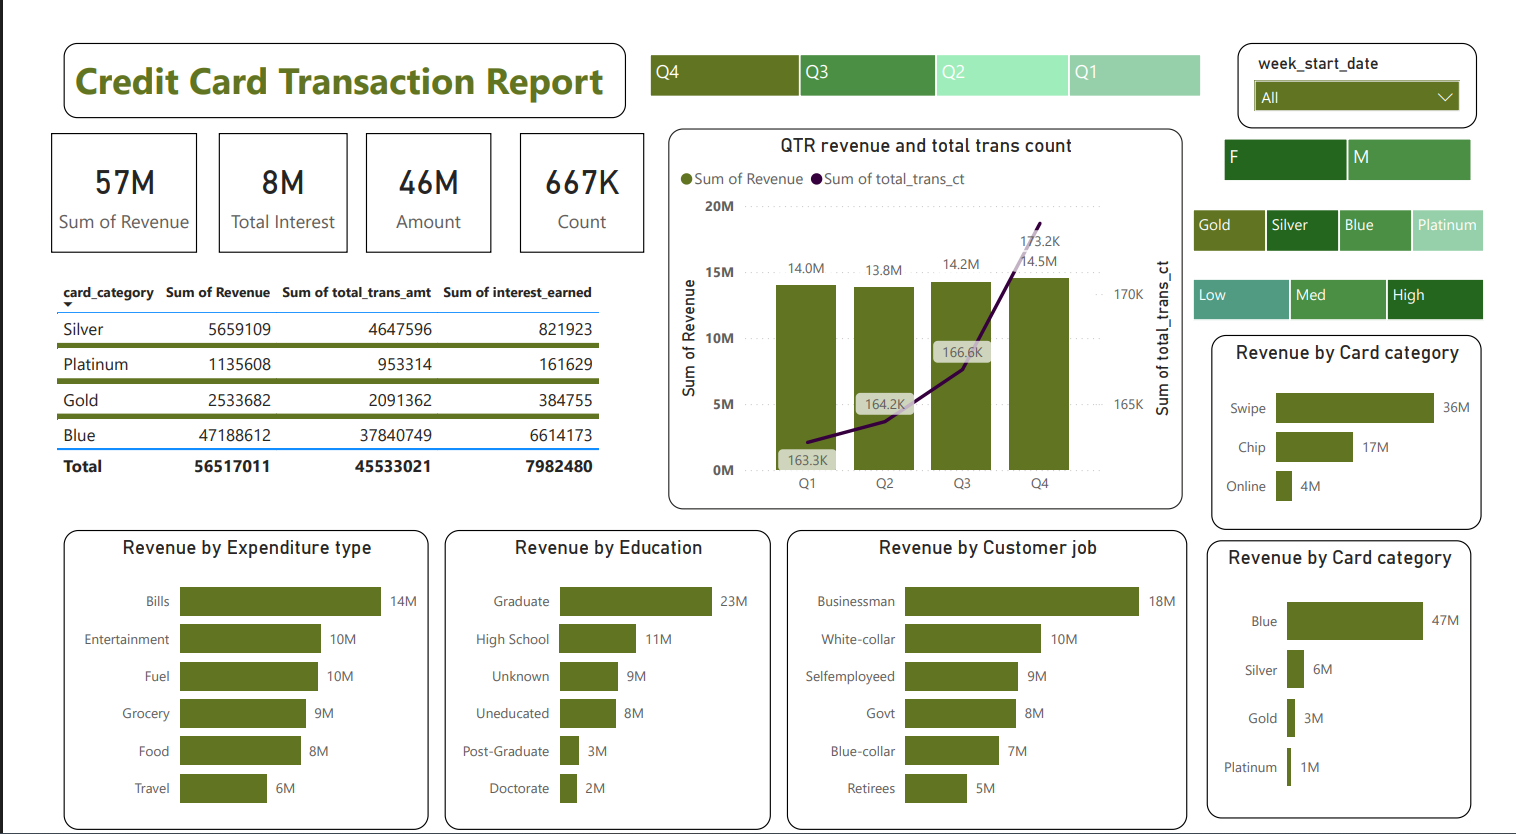

This screenshot's page, from the dashboard's own definition file:
{"tool":"powerbi","page":{"name":"CC Transaction","canvas":[1280,720],"ordinal":1},"visuals":[{"type":"textbox","box":[30.2,17.8,492.6,65.9],"z":0},{"type":"lineStackedColumnComboChart","title":"QTR revenue and total trans count","fields":{"Category":["public cc_detail.qtr"],"Y":["Sum(public cc_detail.Revenue)"],"Y2":["Sum(public cc_detail.total_trans_ct)"]},"box":[559.9,93.3,451.5,333.4],"z":1000},{"type":"barChart","title":" Revenue by Expenditure type","fields":{"Y":["Sum(public cc_detail.Revenue)"],"Category":["public cc_detail.exp_type"]},"box":[30.2,444.6,319.7,263.5],"z":2000},{"type":"barChart","title":"Revenue by Education","fields":{"Y":["Sum(public cc_detail.Revenue)"],"Category":["public cust_detail.education_level"]},"box":[363.6,444.6,286.8,263.5],"z":3000},{"type":"barChart","title":"Revenue by Customer job","fields":{"Y":["Sum(public cc_detail.Revenue)"],"Category":["public cust_detail.customer_job"]},"box":[664.2,444.6,351.3,263.5],"z":4000},{"type":"barChart","title":" Revenue by Card category","fields":{"Y":["Sum(public cc_detail.Revenue)"],"Category":["public cc_detail.card_category"]},"box":[1031.9,454.2,231.9,244.3],"z":5000},{"type":"barChart","title":" Revenue by Card category","fields":{"Y":["Sum(public cc_detail.Revenue)"],"Category":["public cc_detail.use_chip"]},"box":[1036,274.4,237.4,170.2],"z":6000},{"type":"tableEx","fields":{"Values":["public cc_detail.card_category","Sum(public cc_detail.Revenue)","Sum(public cc_detail.total_trans_amt)","Sum(public cc_detail.interest_earned)"]},"box":[19.2,219.6,520.1,209.9],"z":7000},{"type":"slicer","fields":{"Values":["public cc_detail.week_start_date"]},"box":[1059.4,17.8,209.9,75.5],"z":8000},{"type":"treemap","fields":{"Group":["public cc_detail.qtr"],"Values":["Avg(public cc_detail.client_num)"]},"box":[539.3,23.3,492.6,46.7],"z":9000},{"type":"treemap","fields":{"Group":["public cc_detail.card_category"],"Values":["Avg(public cc_detail.client_num)"]},"box":[1015.4,159.2,264.8,46.7],"z":10000},{"type":"treemap","fields":{"Group":["public cust_detail.gender"],"Values":["Avg(public cc_detail.client_num)"]},"box":[1041.5,97.4,227.8,46.7],"z":11000},{"type":"treemap","fields":{"Group":["public cust_detail.IncomeGroup"],"Values":["Avg(public cc_detail.client_num)"]},"box":[1015.4,219.6,264.8,46.7],"z":12000},{"type":"card","fields":{"Values":["Sum(public cc_detail.Revenue)"]},"box":[19.2,97.4,127.6,104.3],"z":13000},{"type":"card","fields":{"Values":["Sum(public cc_detail.interest_earned)"]},"box":[166,97.4,112.5,104.3],"z":14000},{"type":"card","fields":{"Values":["Sum(public cc_detail.total_trans_amt)"]},"box":[295,97.4,109.8,104.3],"z":15000},{"type":"card","fields":{"Values":["Sum(public cc_detail.total_trans_ct)"]},"box":[429.5,97.4,109.8,104.3],"z":16000}]}

Visuals, with their boxes in screenshot pixels (x1, y1, x2, y2), scaled from the page's 1280x720 canvas onto the 1516x834 screenshot:
textbox: rect(36, 21, 619, 97)
"QTR revenue and total trans count" lineStackedColumnComboChart: rect(663, 108, 1198, 494)
" Revenue by Expenditure type" barChart: rect(36, 515, 414, 820)
"Revenue by Education" barChart: rect(431, 515, 770, 820)
"Revenue by Customer job" barChart: rect(787, 515, 1203, 820)
" Revenue by Card category" barChart: rect(1222, 526, 1497, 809)
" Revenue by Card category" barChart: rect(1227, 318, 1508, 515)
tableEx - public cc_detail.card_category x Sum(public cc_detail.Revenue): rect(23, 254, 639, 498)
slicer - public cc_detail.week_start_date: rect(1255, 21, 1503, 108)
treemap - public cc_detail.qtr x Avg(public cc_detail.client_num): rect(639, 27, 1222, 81)
treemap - public cc_detail.card_category x Avg(public cc_detail.client_num): rect(1203, 184, 1515, 239)
treemap - public cust_detail.gender x Avg(public cc_detail.client_num): rect(1234, 113, 1503, 167)
treemap - public cust_detail.IncomeGroup x Avg(public cc_detail.client_num): rect(1203, 254, 1515, 308)
card - Sum(public cc_detail.Revenue): rect(23, 113, 174, 234)
card - Sum(public cc_detail.interest_earned): rect(197, 113, 330, 234)
card - Sum(public cc_detail.total_trans_amt): rect(349, 113, 479, 234)
card - Sum(public cc_detail.total_trans_ct): rect(509, 113, 639, 234)
